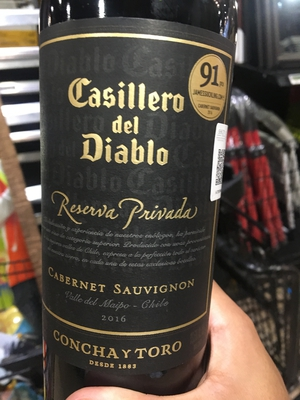casillero del diablo reserva privada cabernet sauvignon: (35, 5, 241, 400)
